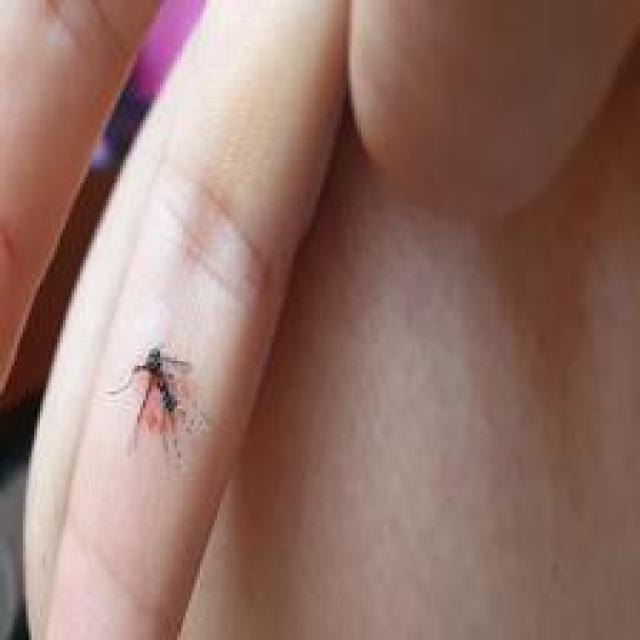Aedes albopictus: (106, 343, 211, 460)
